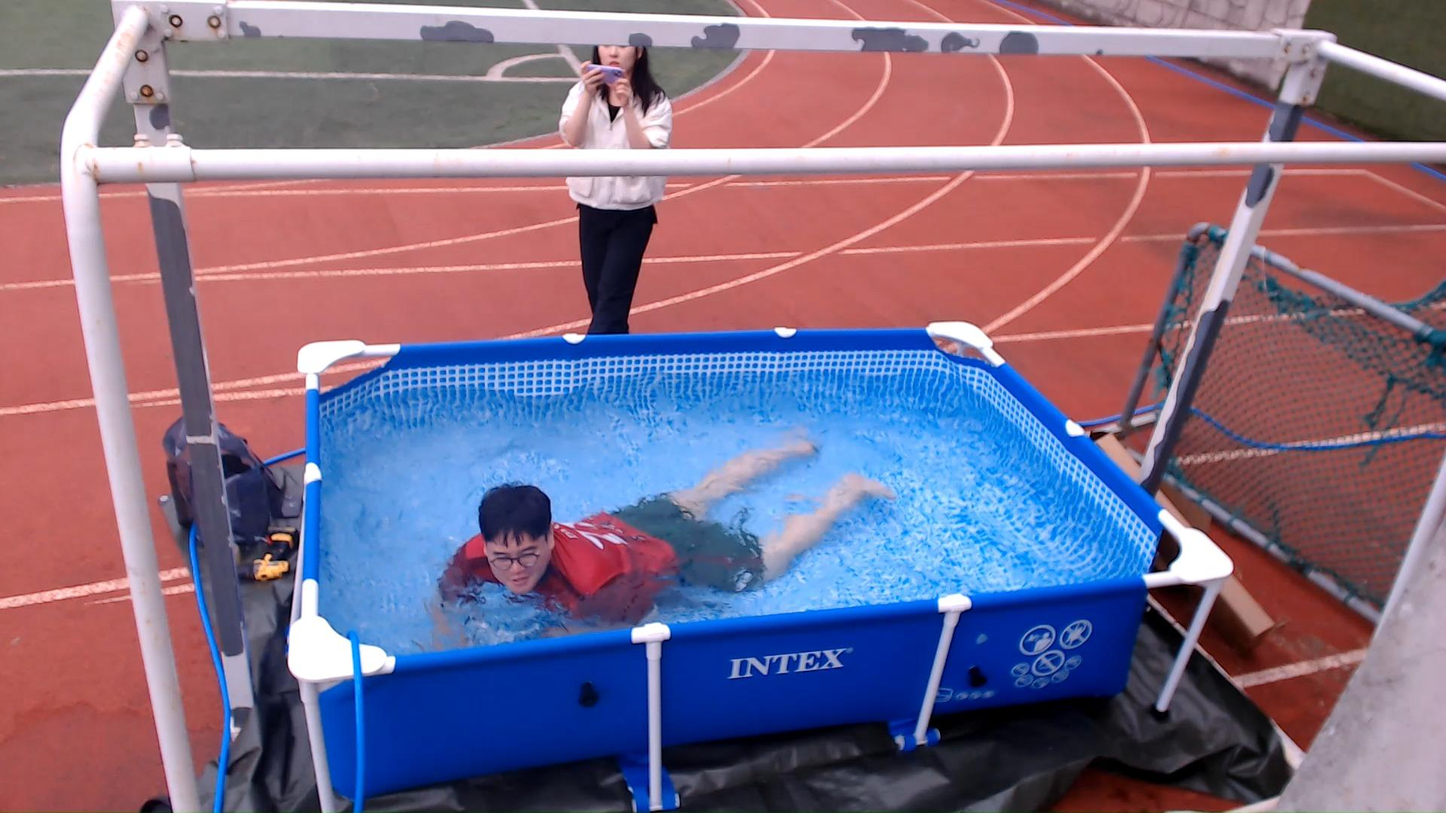Person-out-of-water: (512, 0, 717, 350)
Swimming: (366, 408, 932, 625)
